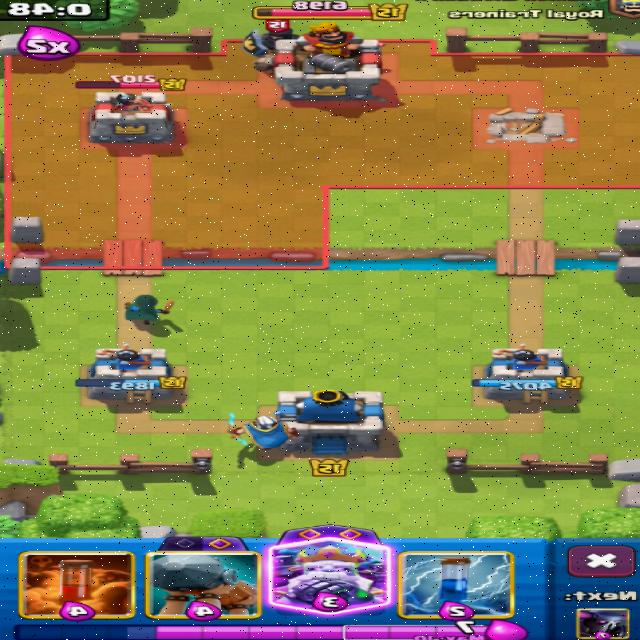Enemy-DarkPrince-Shield: (244, 20, 297, 75)
Enemy-KingTower-Activated: (270, 21, 383, 100)
Enemy-PrincessTower: (90, 90, 175, 142)
Player-Bandit: (126, 294, 171, 322)
Player-KingTower: (274, 388, 386, 455)
Player-MagicArcher: (230, 414, 299, 448)
Player-PrincessTower: (472, 344, 582, 402), (78, 344, 186, 402)
